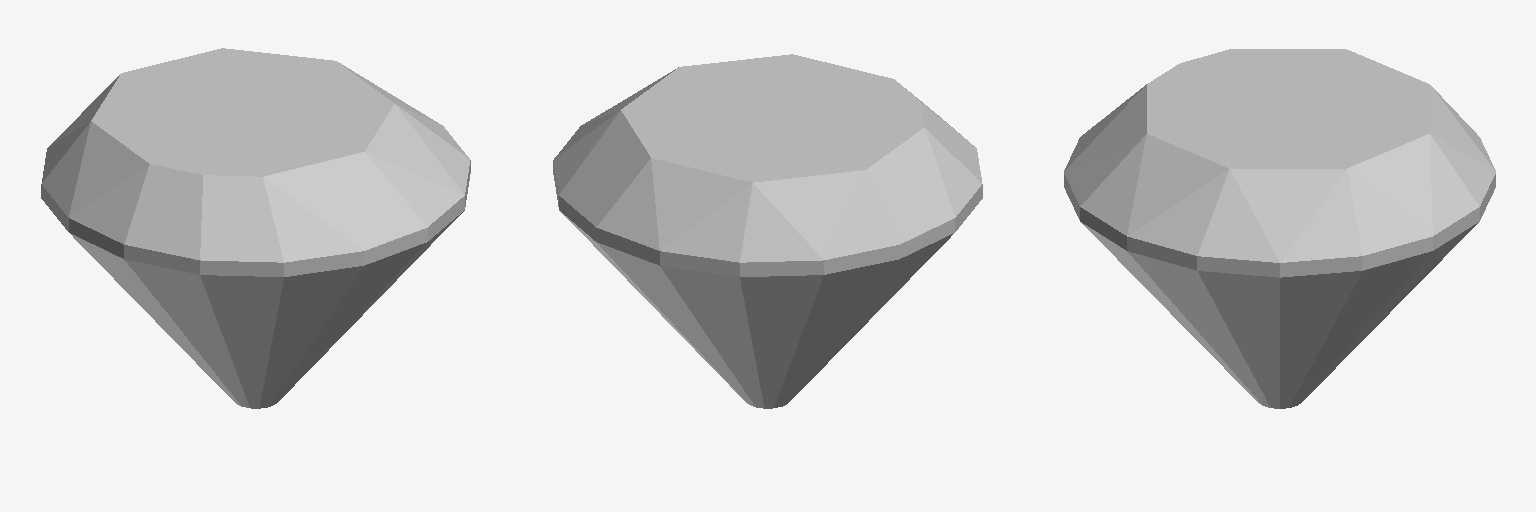
The model's file is diamondStanding.obj.
3 renders of one model, left to right at view 1: azimuth 30°, elevation 25°; view 2: azimuth 150°, elevation 25°; view 3: azimuth 270°, elevation 25°, orthographic.
Size of the model in its own units: 4.08 by 2.97 by 4.08.